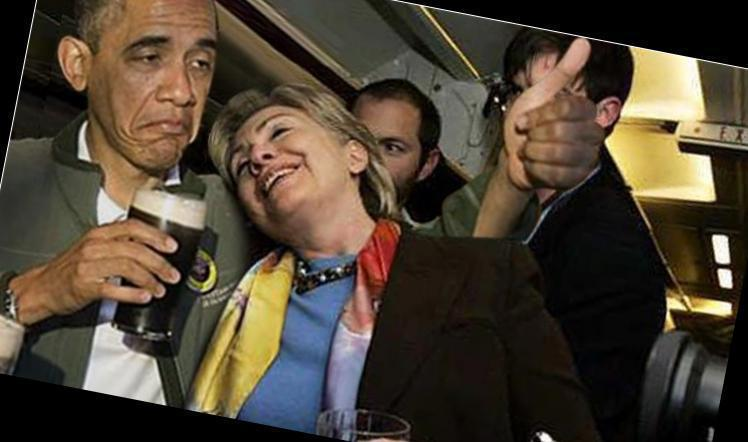Drunk: (92, 0, 218, 167), (226, 109, 356, 225)
